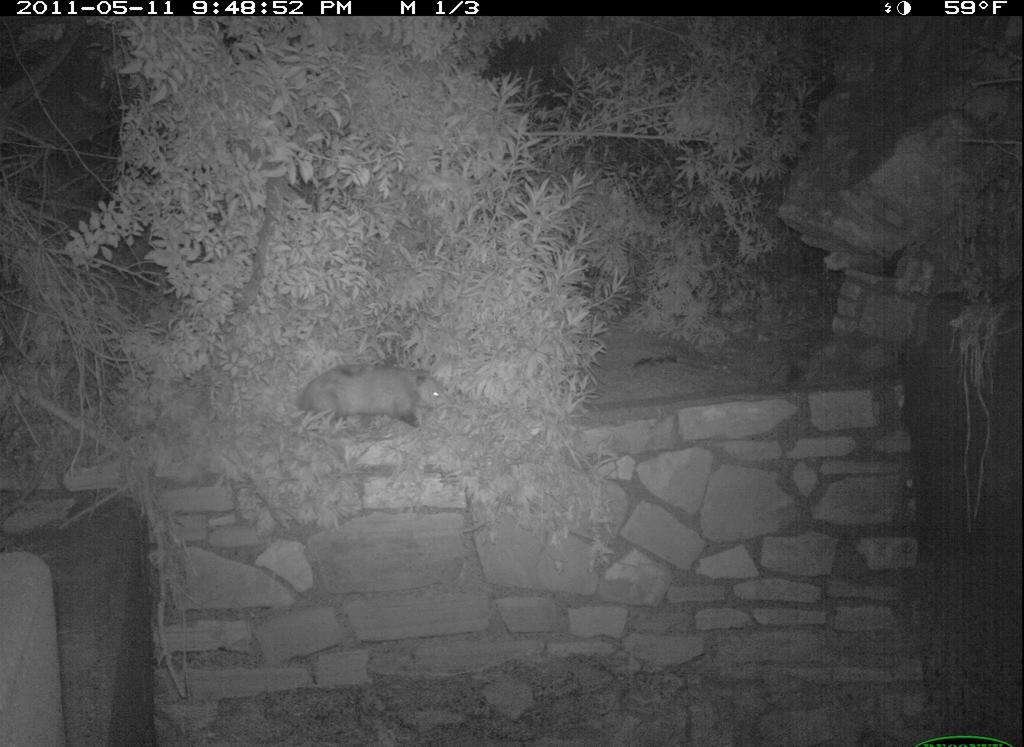opossum: (286, 351, 474, 445)
